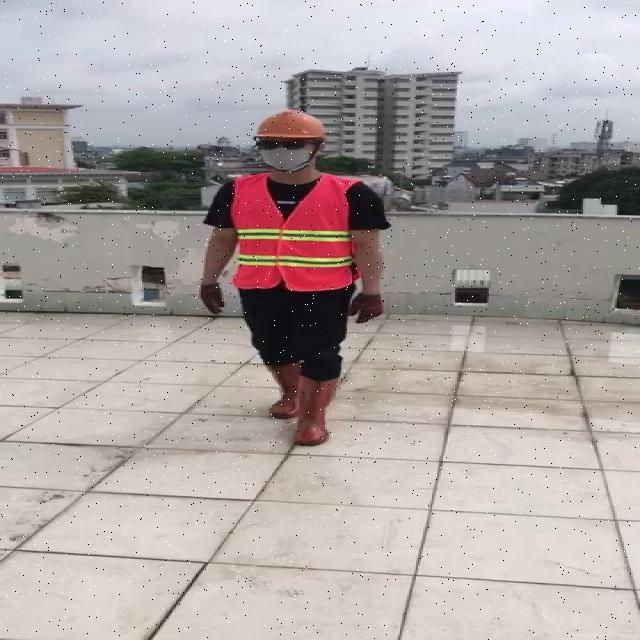Hard_hat: (250, 109, 333, 153)
Person: (194, 108, 402, 467)
Vest: (229, 169, 355, 293)
